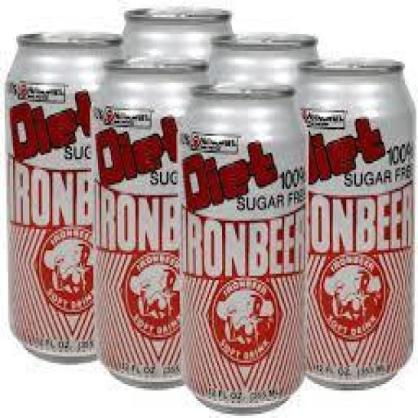can: (182, 86, 306, 408), (296, 60, 416, 390), (4, 36, 96, 362), (98, 63, 189, 388)
